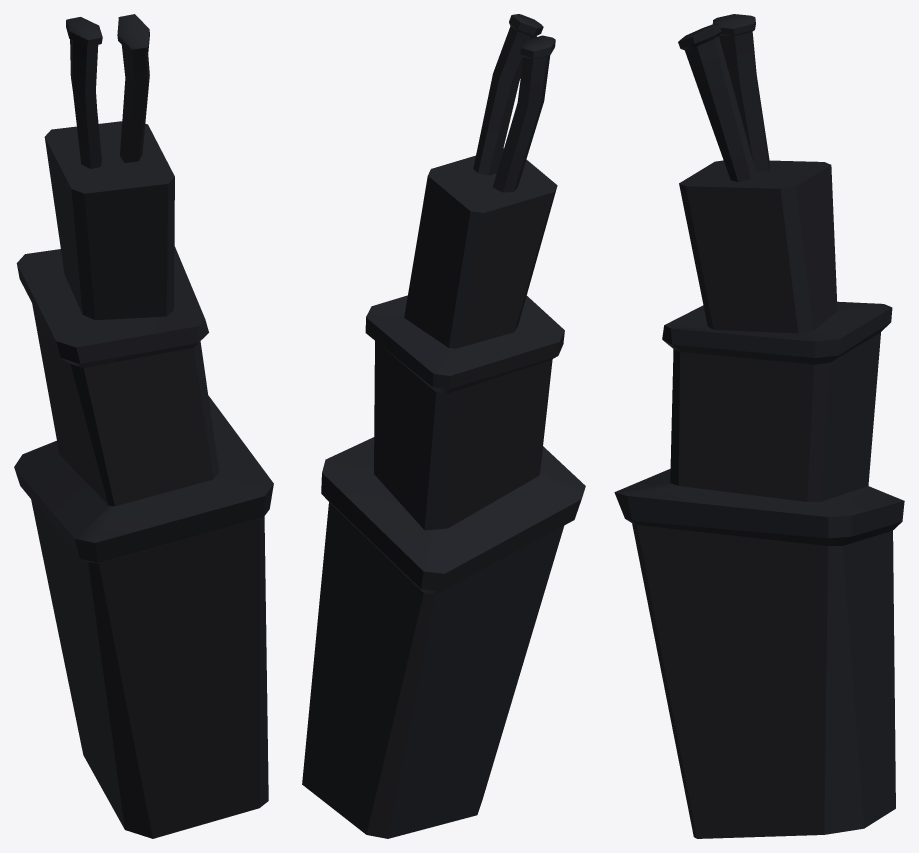
Rendered from SM_L_G_Home_Chimney.fbx.
The picture shows the model from 3 angles, left to right: view 1: azimuth 30°, elevation 25°; view 2: azimuth 150°, elevation 25°; view 3: azimuth 270°, elevation 25°; orthographic projection. The views are drawn at different scales.
Parts seen in each view (by area): view 1: SM_L_G_Home_Chimney; view 2: SM_L_G_Home_Chimney; view 3: SM_L_G_Home_Chimney.
Part boxes in pixels (left/top/right/bottom): SM_L_G_Home_Chimney: left=14, top=14, right=273, bottom=838; SM_L_G_Home_Chimney: left=302, top=14, right=585, bottom=838; SM_L_G_Home_Chimney: left=614, top=14, right=904, bottom=838.
Bounding box in the file's own units: 70.93 × 254 × 85.79.
